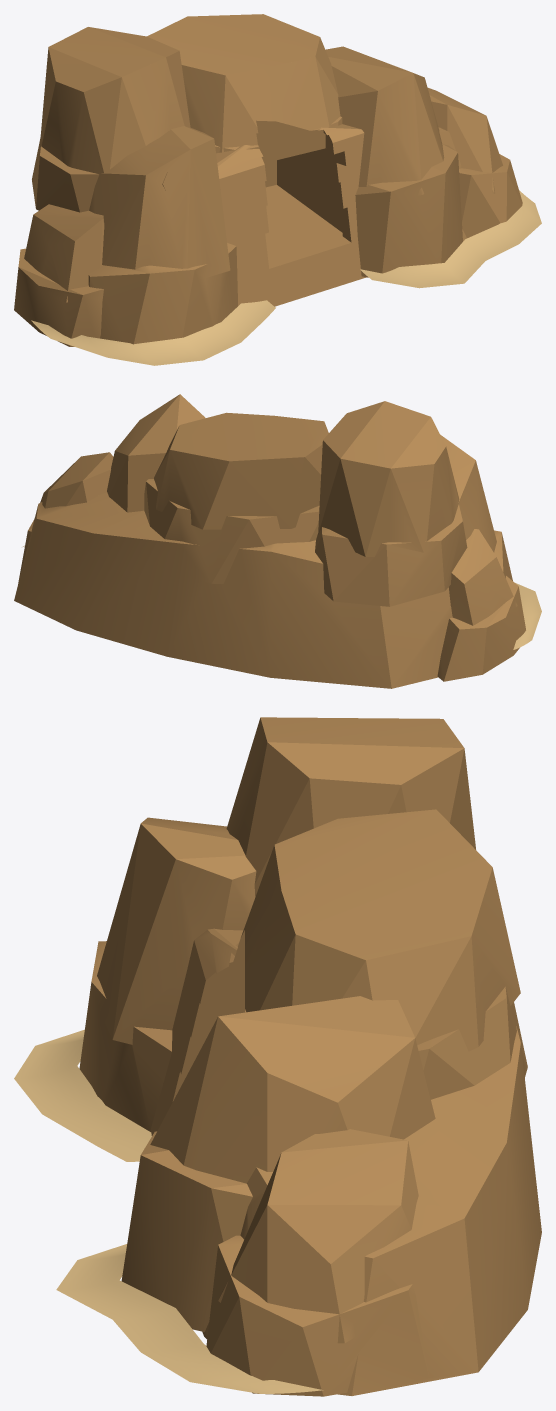
Rendered from mountain.glb.
3 renders of one model, top to bottom at view 1: azimuth 30°, elevation 25°; view 2: azimuth 150°, elevation 25°; view 3: azimuth 270°, elevation 25°, orthographic. The views are drawn at different scales.
Parts seen in each view (by area): view 1: mountain-continuous-union, sand-foot--1, sand-foot-1; view 2: mountain-continuous-union, sand-foot--1; view 3: mountain-continuous-union, sand-foot-1, sand-foot--1.
Part boxes in pixels (x1,y1,x2,y2): mountain-continuous-union: (14,14,522,346); sand-foot--1: (31,300,275,365); sand-foot-1: (360,190,541,288); mountain-continuous-union: (14,394,525,688); sand-foot--1: (513,582,541,649); mountain-continuous-union: (79,717,541,1396); sand-foot-1: (56,1244,323,1393); sand-foot--1: (14,1029,151,1161).
Size of the model in its own units: 130 by 59.6 by 75.
